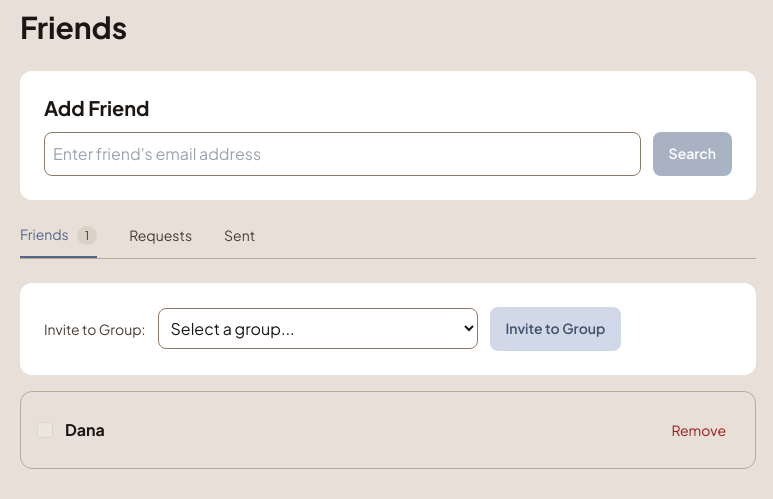
Test: remove friend prunes the bulk-invite selection (MED#1) › unselects the removed friend — the selected counter clears with the row
Select "Test Group" in the dropdown labelled "Invite to Group" at (318, 328), box [158,308,478,349]
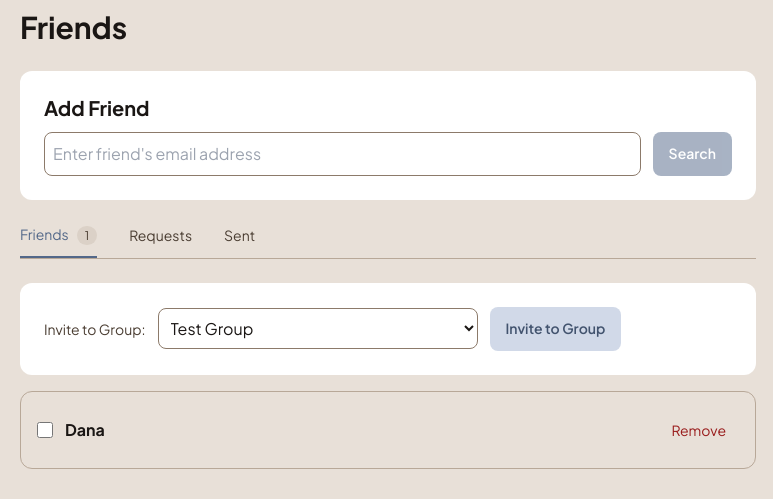
Click the checkbox named "Select Dana" at (45, 430), box [37,422,53,438]
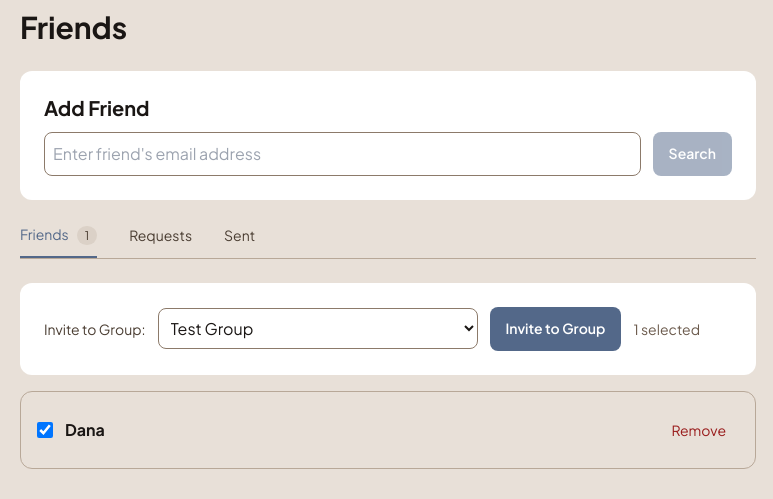
Expected: the text "1 selected" is shown, [633,318,700,338]
Click the button with aria-label "Remove Dana" at (699, 430), box [658,408,739,452]
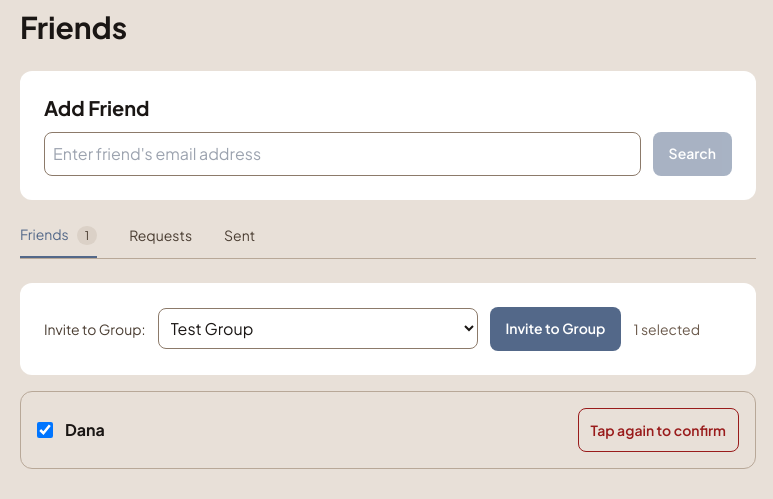
Click the button "Tap again to confirm" at (658, 430), box [578,408,739,452]
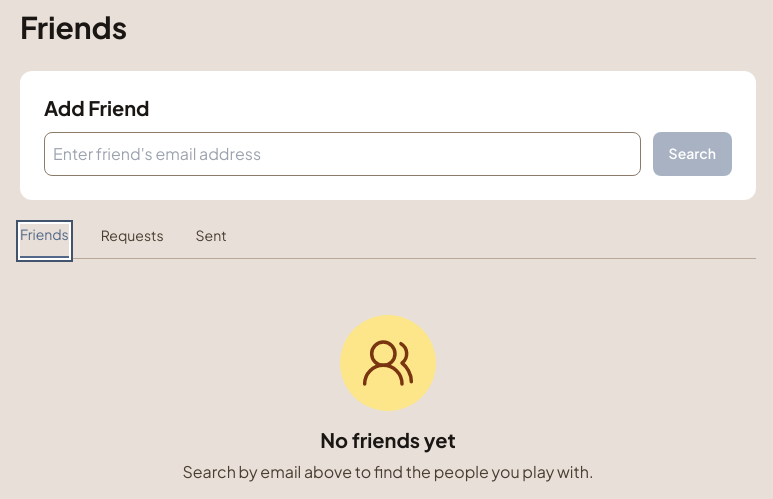
Expected: the text "1 selected" is gone
